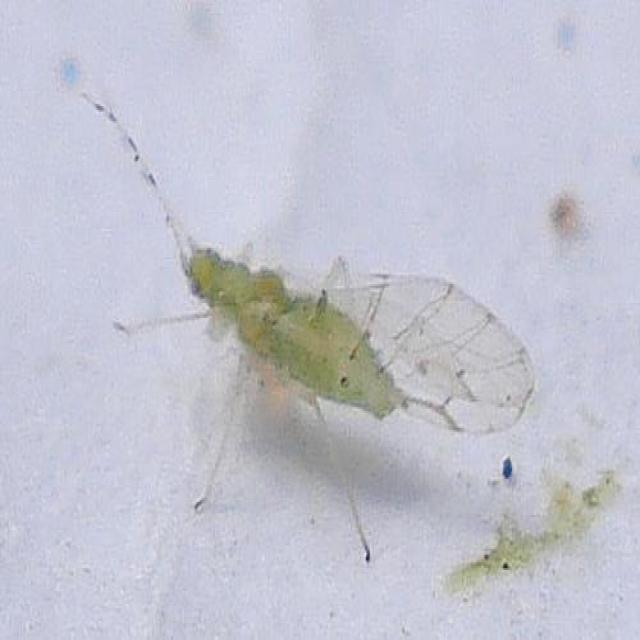Aphids: (86, 92, 544, 594)
